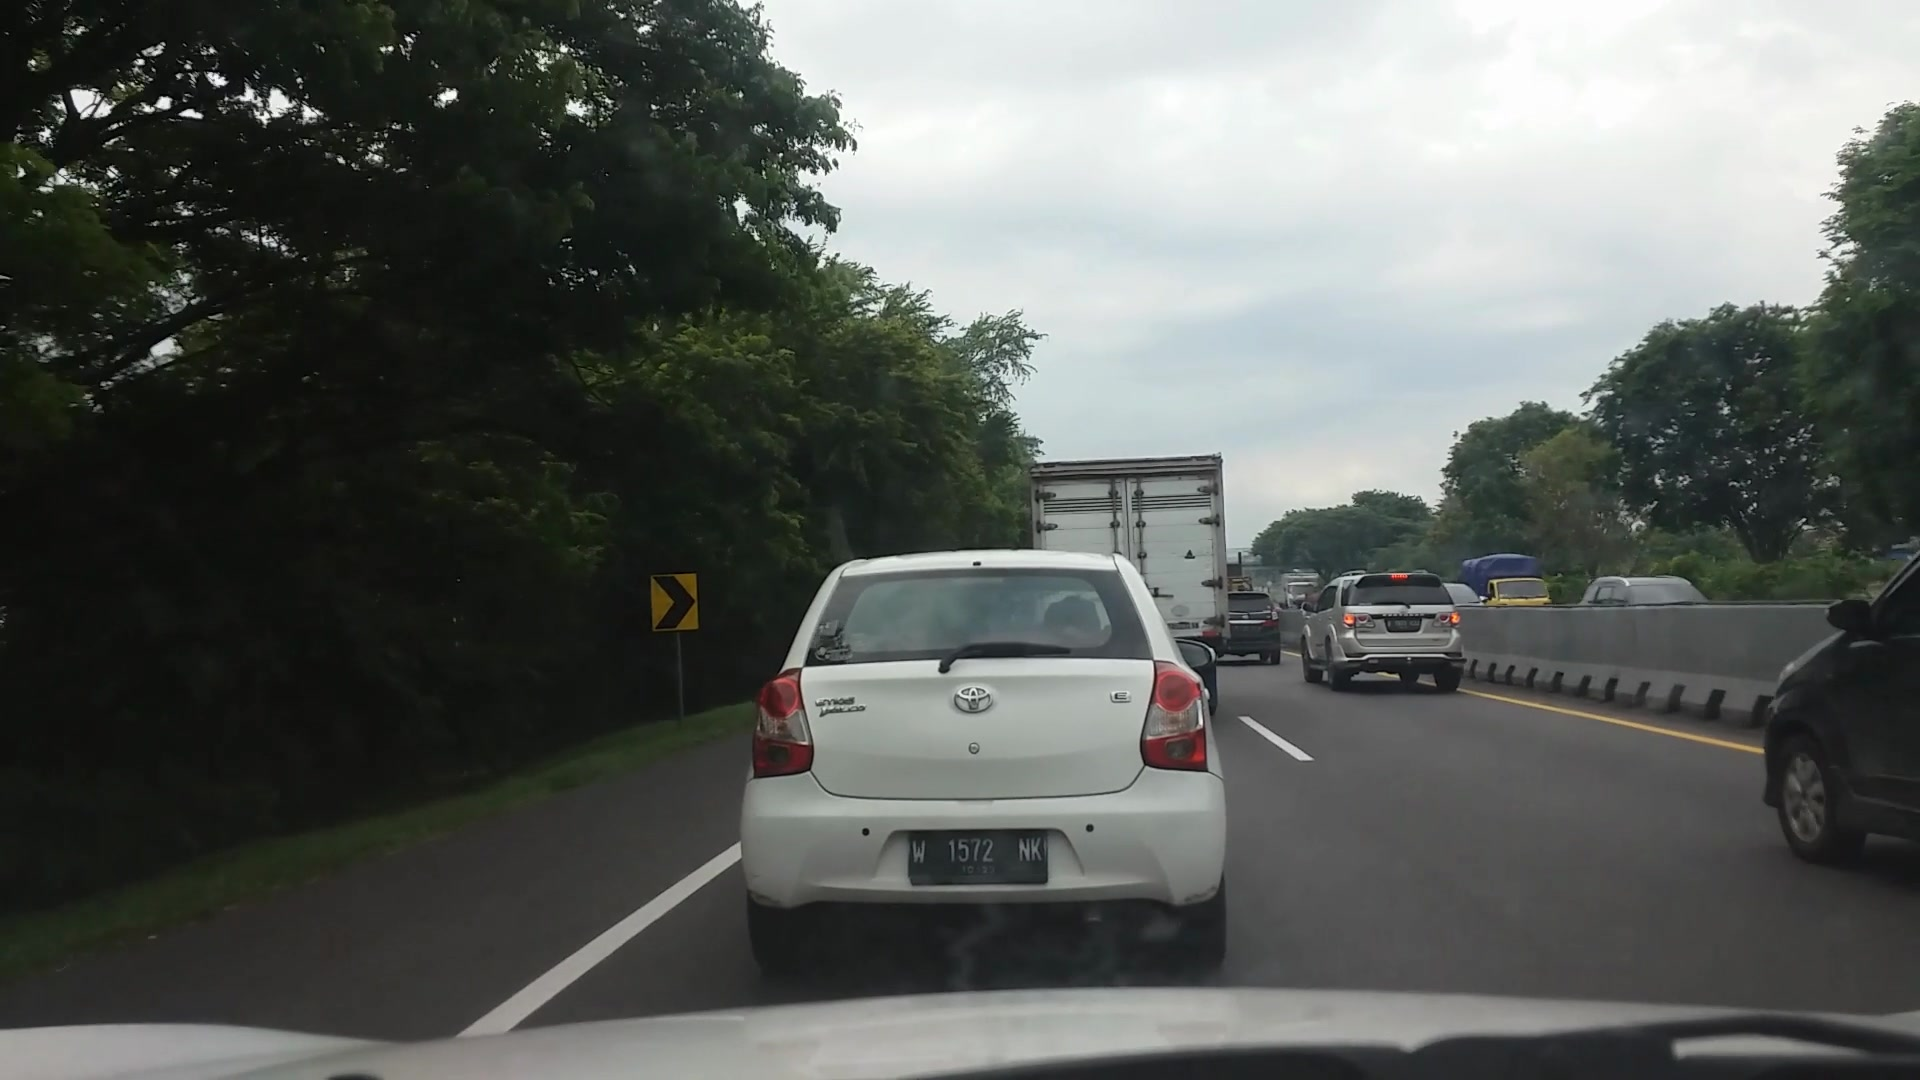plate_positive: (907, 829, 1048, 886)
